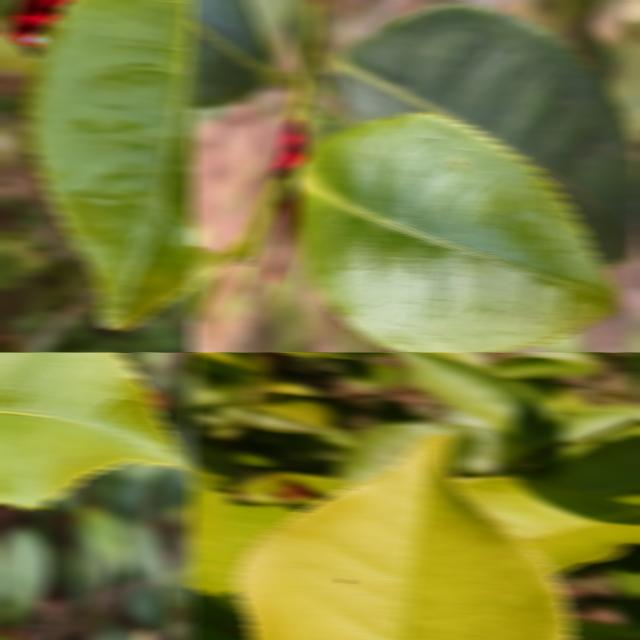Leaf: (336, 6, 640, 265), (293, 113, 620, 352), (233, 434, 572, 640), (24, 0, 195, 329), (0, 352, 184, 508), (455, 475, 640, 573), (389, 352, 548, 439), (189, 490, 298, 595), (189, 0, 277, 107), (332, 420, 480, 483), (523, 435, 640, 503), (0, 525, 50, 624), (76, 506, 130, 575), (607, 34, 640, 139), (604, 550, 640, 631), (486, 356, 594, 379)
